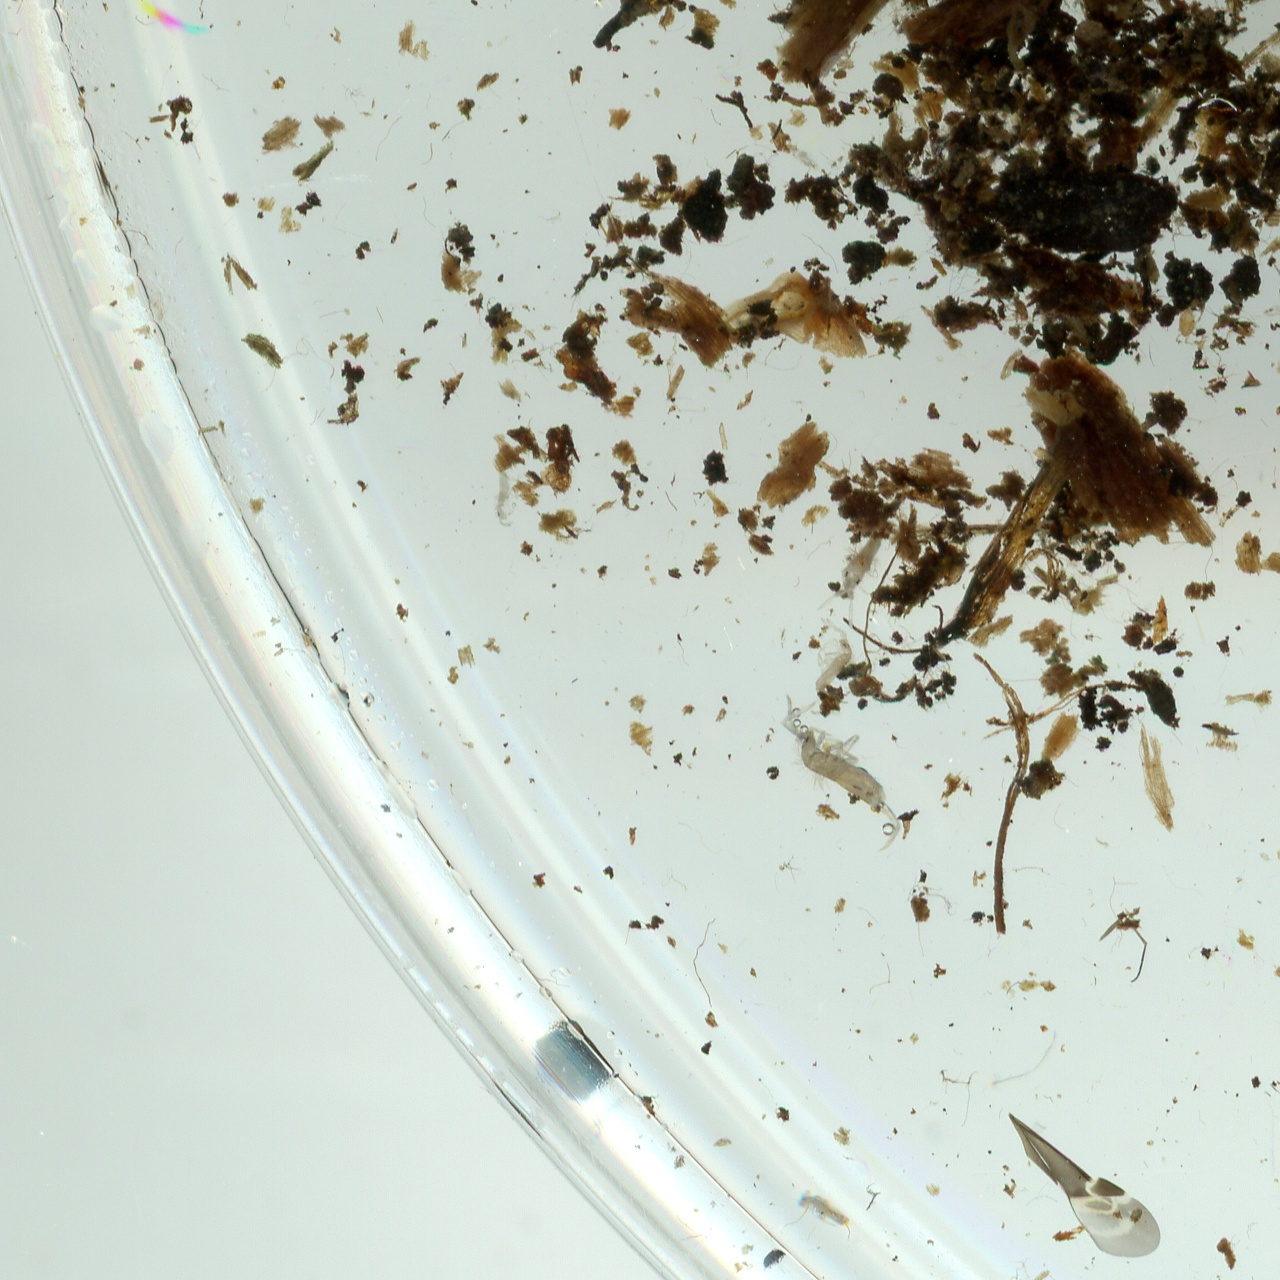arthropod: (743, 686, 935, 857), (813, 531, 900, 634), (796, 620, 867, 703), (785, 1183, 867, 1245), (806, 35, 858, 96), (489, 462, 520, 530), (782, 137, 828, 181), (1172, 302, 1206, 348), (755, 1241, 790, 1274), (1262, 304, 1280, 332), (1071, 0, 1082, 11)
